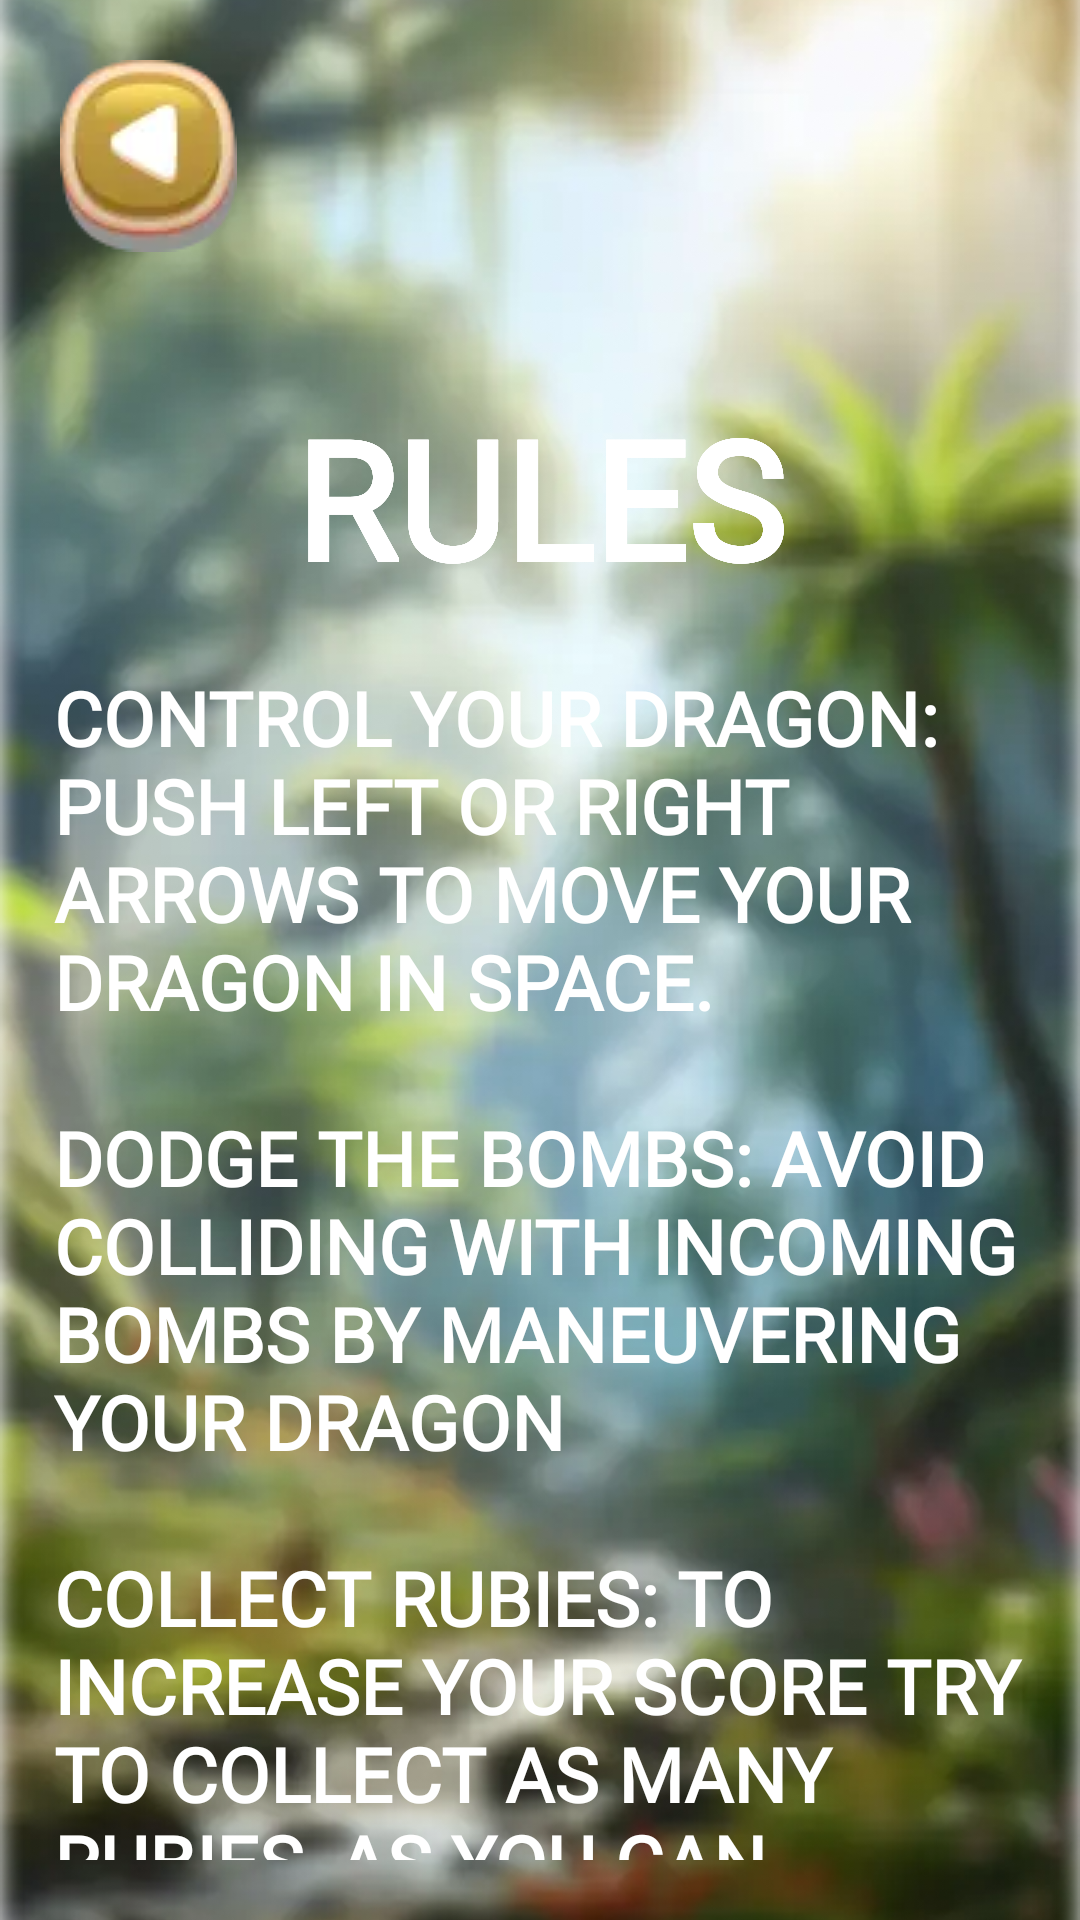

Point at icon controls on the screen. Image size 1080x1920, points as (x,y).
back: (148,156)
